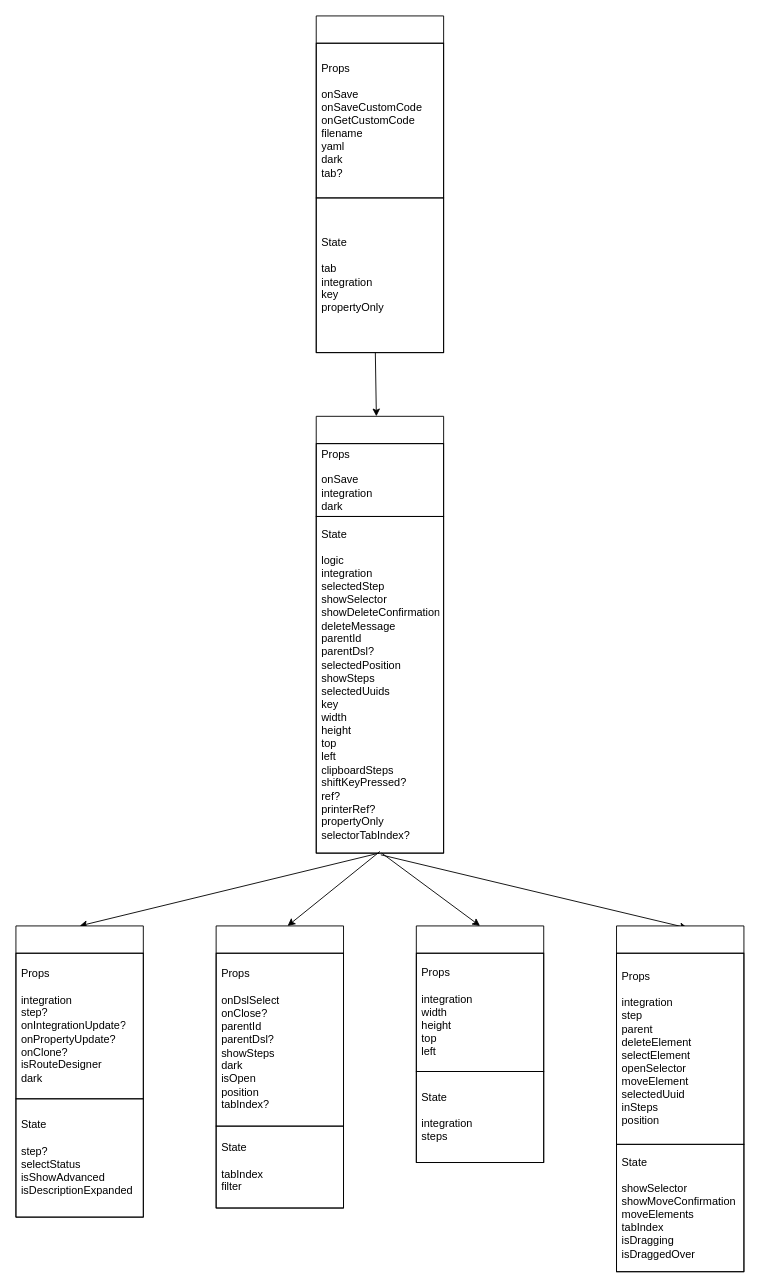
Image size: 760x1288. Some labels were removed from this diagram. Here are the shapes that lost their labels. From the top down, the box of each, then its label:
(315, 15, 444, 353): KaravanDesigner
(315, 415, 444, 853): RouteDesigner
(415, 925, 544, 1163): DslConnection
(15, 925, 143, 1217): DslProperties
(215, 925, 344, 1208): DslSelector
(616, 925, 744, 1272): DslElement
